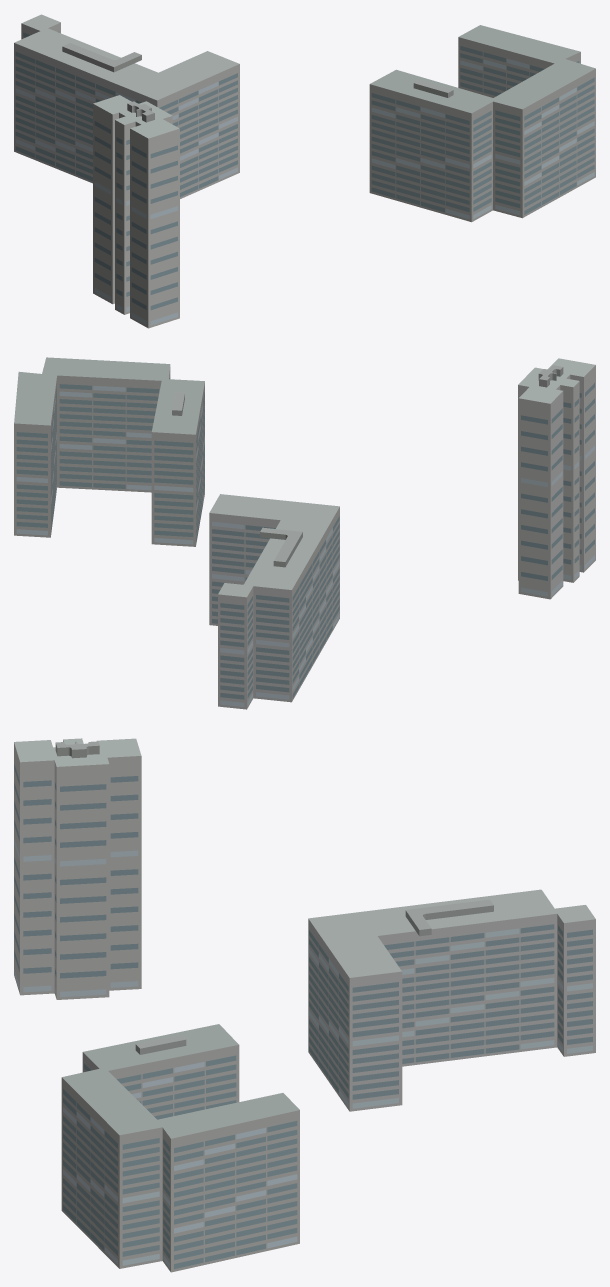
File: apt-a10027297.glb
3 renders of one model, top to bottom at view 1: azimuth 30°, elevation 25°; view 2: azimuth 150°, elevation 25°; view 3: azimuth 270°, elevation 25°, orthographic. The views are drawn at different scales.
Parts seen in each view (by area): view 1: apt-a10027297; view 2: apt-a10027297; view 3: apt-a10027297.
Boxes of the visible parts, x1,y1,x2,y2 form: apt-a10027297: (14,14,595,328); apt-a10027297: (14,357,595,709); apt-a10027297: (14,738,595,1272).
Bounding box in the file's own units: 184 × 69 × 151.
